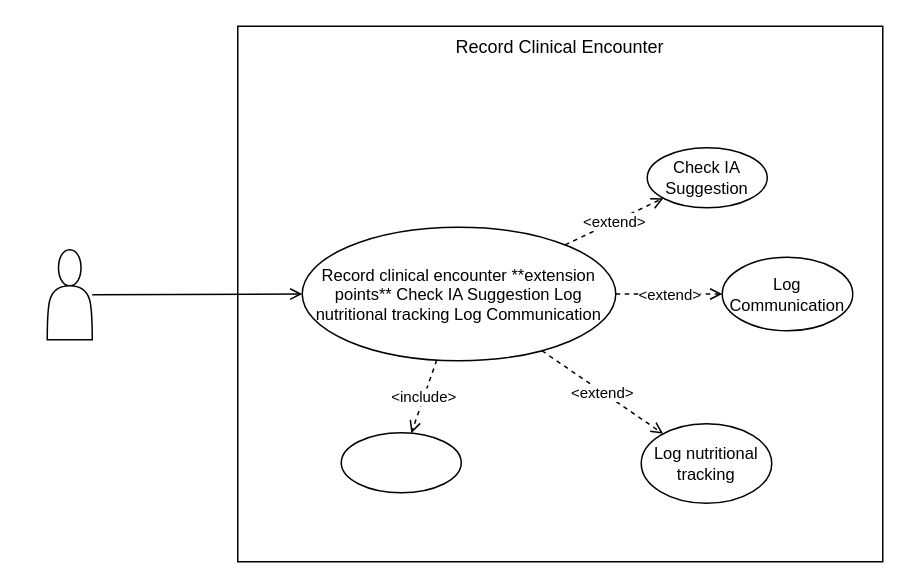
Some shapes in this 909 by 588 pixel diagram are drawn without their labels. The shapes that lost their labels are listed below. From the top down, each one's box as (x1, y1, x2, y2) in pixels, then its label:
(46, 248, 92, 340): Veterinarian
(340, 431, 461, 493): View Medical History
